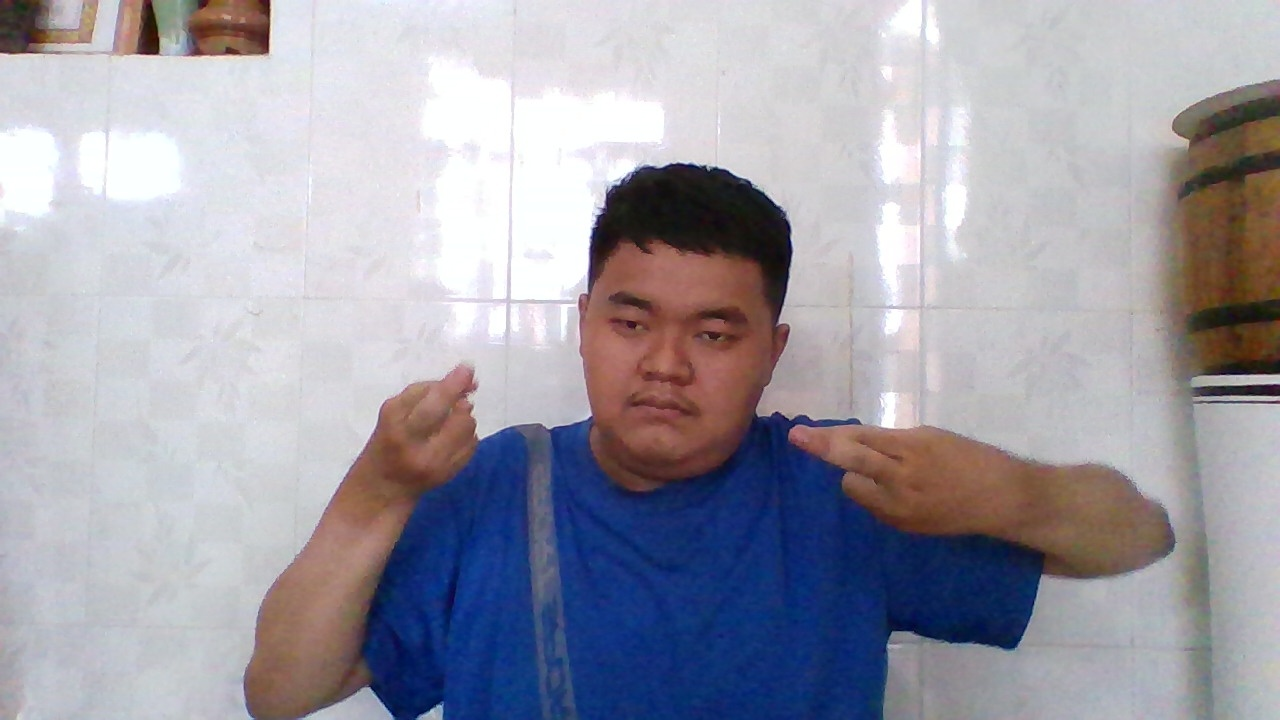R: (780, 418, 1030, 535), (359, 357, 491, 501)
